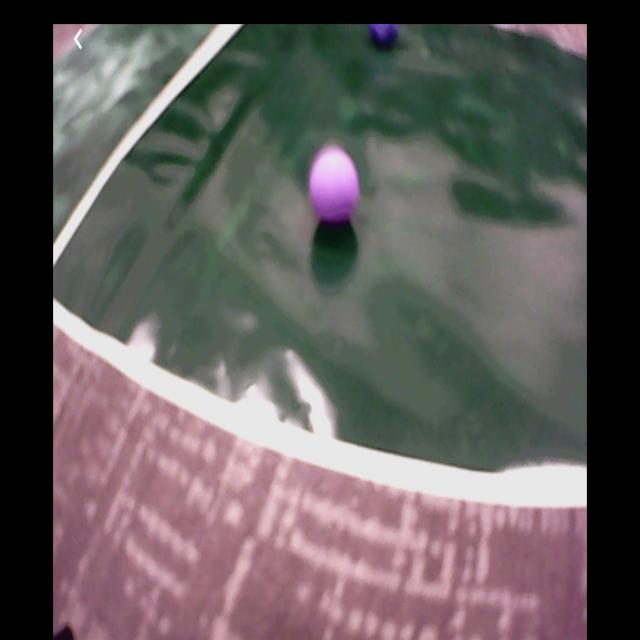ball: (310, 145, 360, 223), (371, 23, 400, 55)
